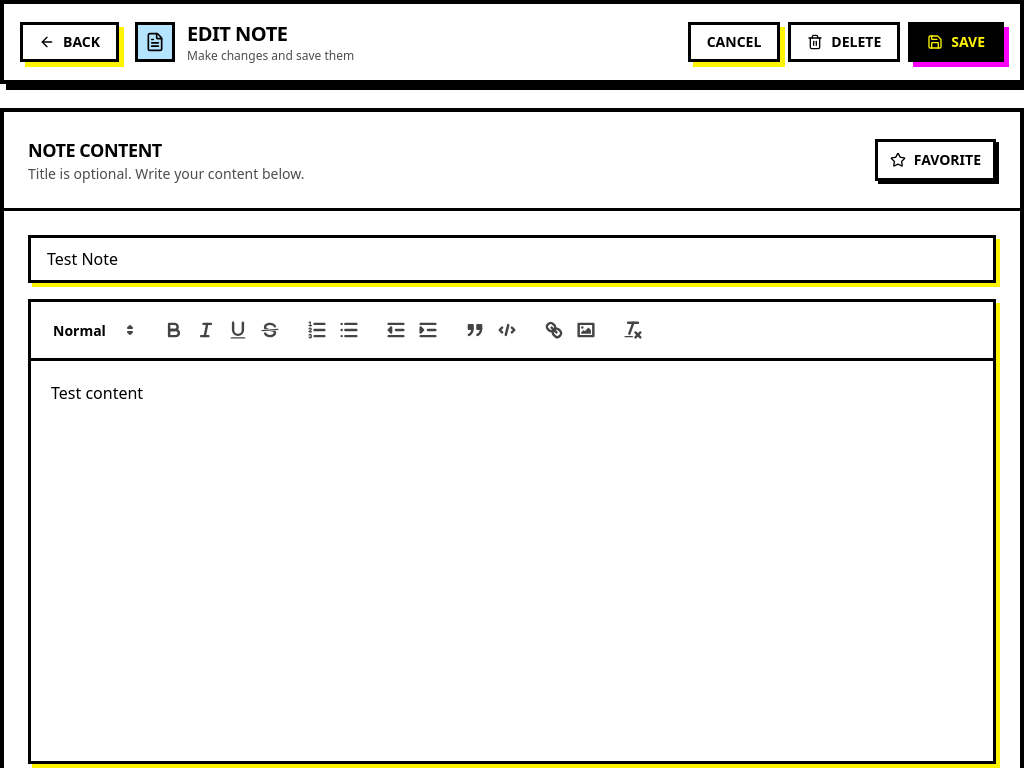
it: NoteEditor - Functional Tests › Delete Functionality › should cancel delete when user clicks cancel
Expected: the field showing "Test Note" is shown, [28,235,996,283]
Click the button "Delete" at [844, 42], box [788,22,900,62]
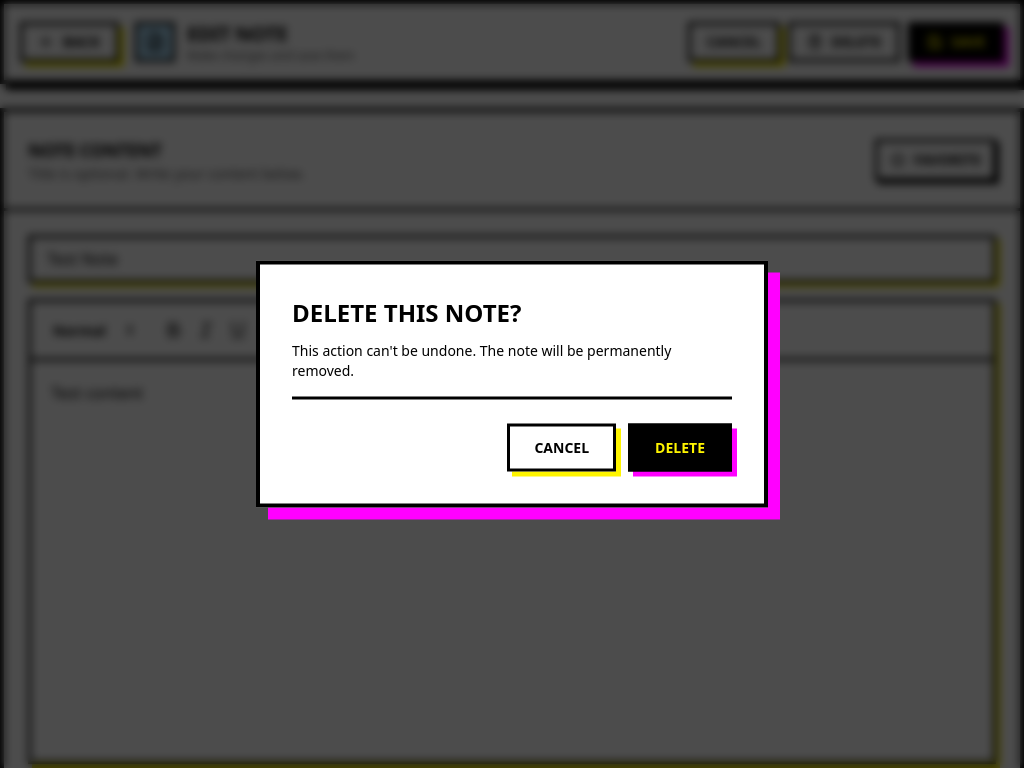
Expected: the heading "Delete This Note?" is shown, [292,296,522,328]
Click the button "Cancel" at [562, 448], box [508,424,616,472]
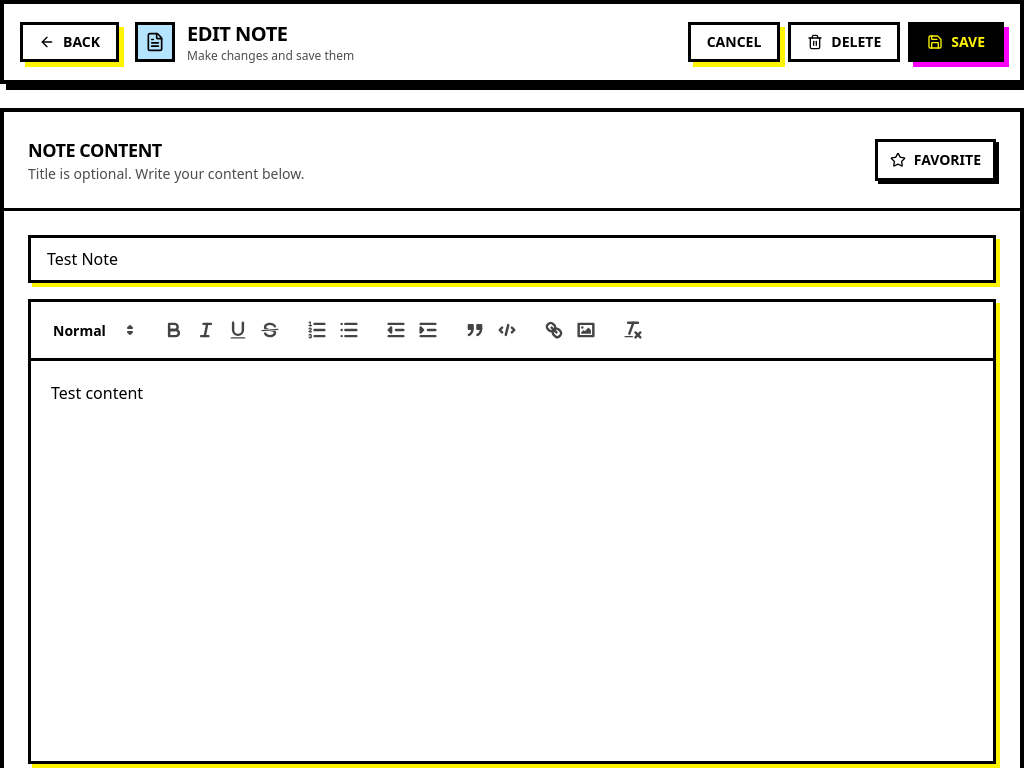
Expected: the heading "Delete This Note" is gone
